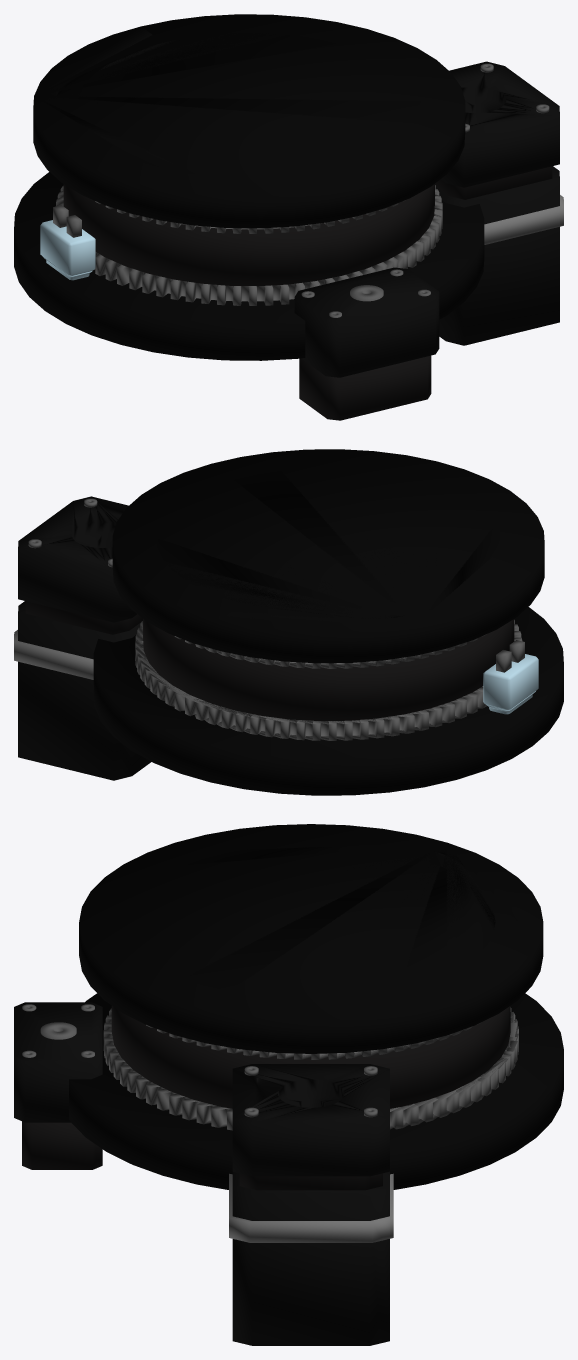
The model's file is Gear-1.obj.
3 renders of one model, top to bottom at view 1: azimuth 30°, elevation 25°; view 2: azimuth 150°, elevation 25°; view 3: azimuth 270°, elevation 25°, orthographic. The views are drawn at different scales.
Visible parts, largest first — view 1: Object004, Object003, Object001, Box009, Box005, Box007, Object002, Box006, Box001, Box010, Box008; view 2: Object004, Object003, Object001, Box009, Box007, Object002, Box001, Box010, Box008; view 3: Object004, Object003, Box009, Box007, Object001, Box005, Object002, Box010, Box006, Box008.
Boxes of the visible parts, x1,y1,x2,y2 form: Object004: (33,14,465,233); Object003: (14,172,484,360); Object001: (63,184,434,286); Box009: (435,166,559,345); Box005: (294,267,439,377); Box007: (440,61,559,187); Object002: (55,185,442,305); Box006: (299,355,431,420); Box001: (40,220,95,280); Box010: (484,195,563,244); Box008: (435,166,552,199); Object004: (112,449,544,668); Object003: (93,607,563,795); Object001: (143,619,514,720); Box009: (18,601,151,780); Box007: (18,496,136,622); Object002: (135,620,522,740); Box001: (483,654,538,714); Box010: (14,630,93,679); Box008: (25,601,142,634); Object004: (79,824,543,1059); Object003: (69,993,563,1189); Box009: (232,1171,389,1345); Box007: (232,1064,389,1176); Object001: (111,1006,510,1108); Box005: (14,1002,102,1122); Object002: (103,1007,518,1130); Box010: (229,1173,393,1242); Box006: (22,1121,102,1169); Box008: (239,1173,382,1190).
Size of the model in its own units: 408 by 204 by 369.
